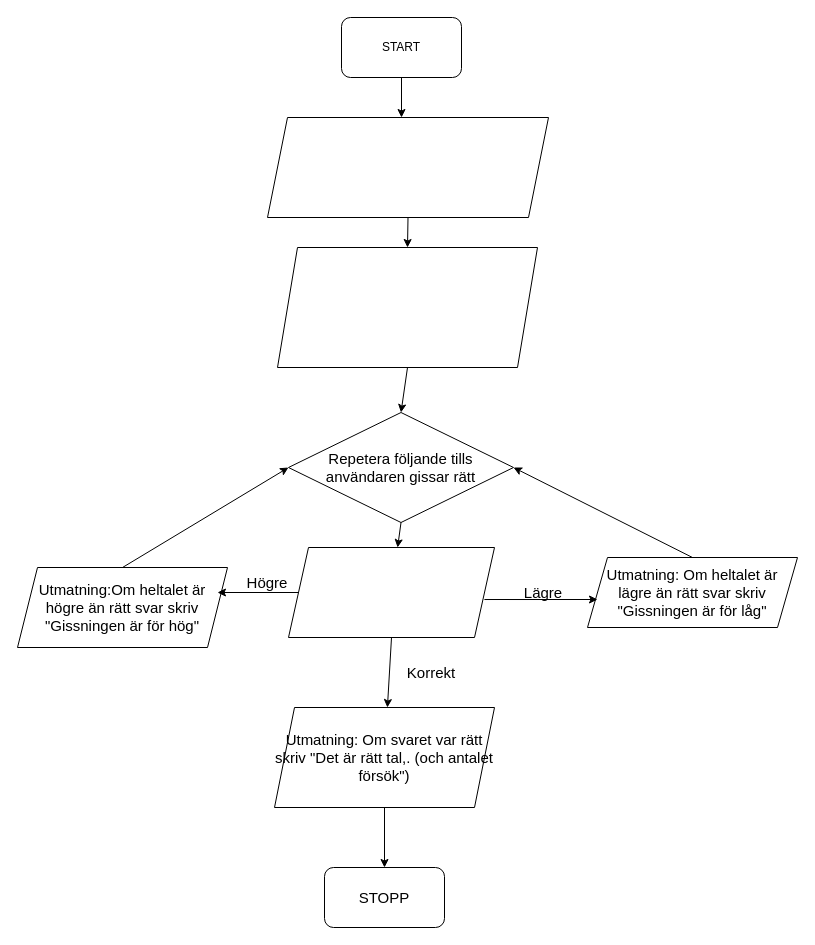
Some shapes in this 815 by 945 pixel diagram are drawn without their labels. Here are the shapes that lost their labels. From the top down, the centre of each, then its label:
[407,167]: Inmatning: Skapa en variabel som slumpar fram ett heltal tal mellan 1 - 100
[407,307]: Inmatning: Skapa en variabel som räknar antalet försök
[391,592]: Utmaning: "Ange ett heltal mellan 1- 100"
